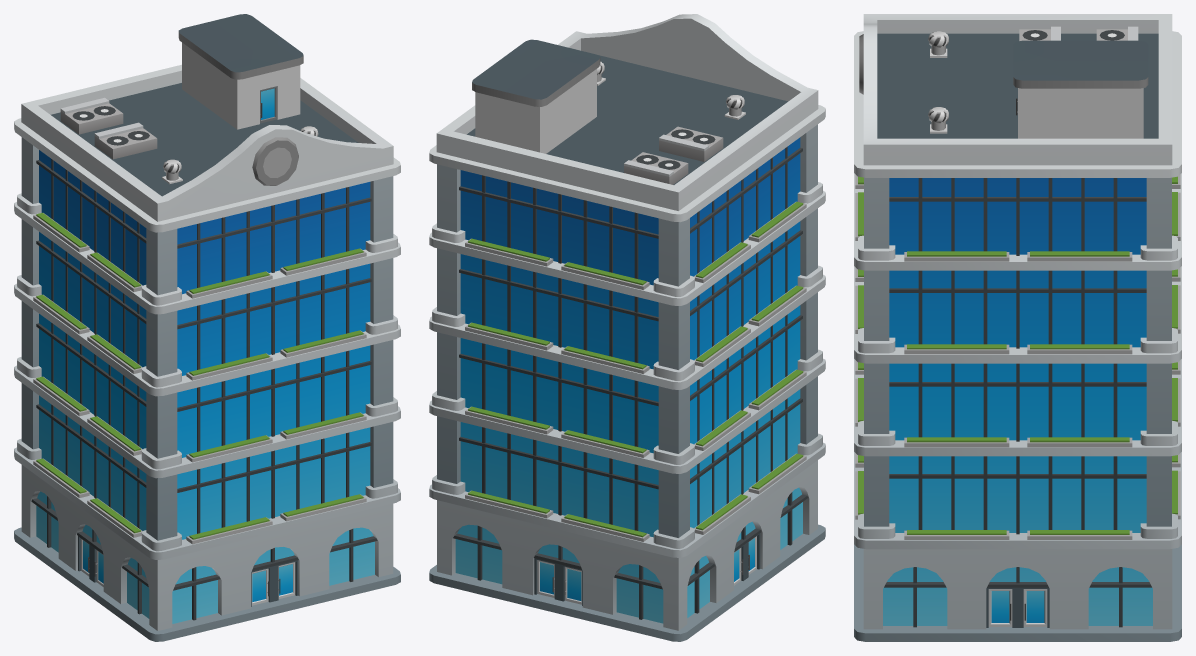
Rendered from elite_residental_building_006.glb.
3 views of the same model, side by side, from view 1: azimuth 30°, elevation 25°; view 2: azimuth 150°, elevation 25°; view 3: azimuth 270°, elevation 25° (orthographic). The views are drawn at different scales.
Visible parts, largest first — view 1: elite_residental_building_006; view 2: elite_residental_building_006; view 3: elite_residental_building_006.
Boxes of the visible parts, bbox=[...] form: elite_residental_building_006: bbox=[14, 14, 400, 641]; elite_residental_building_006: bbox=[429, 14, 825, 641]; elite_residental_building_006: bbox=[854, 14, 1181, 641].
Bounding box in the file's own units: 16.78 × 30.85 × 16.78.
Materials: 2 (2 with a texture image).
